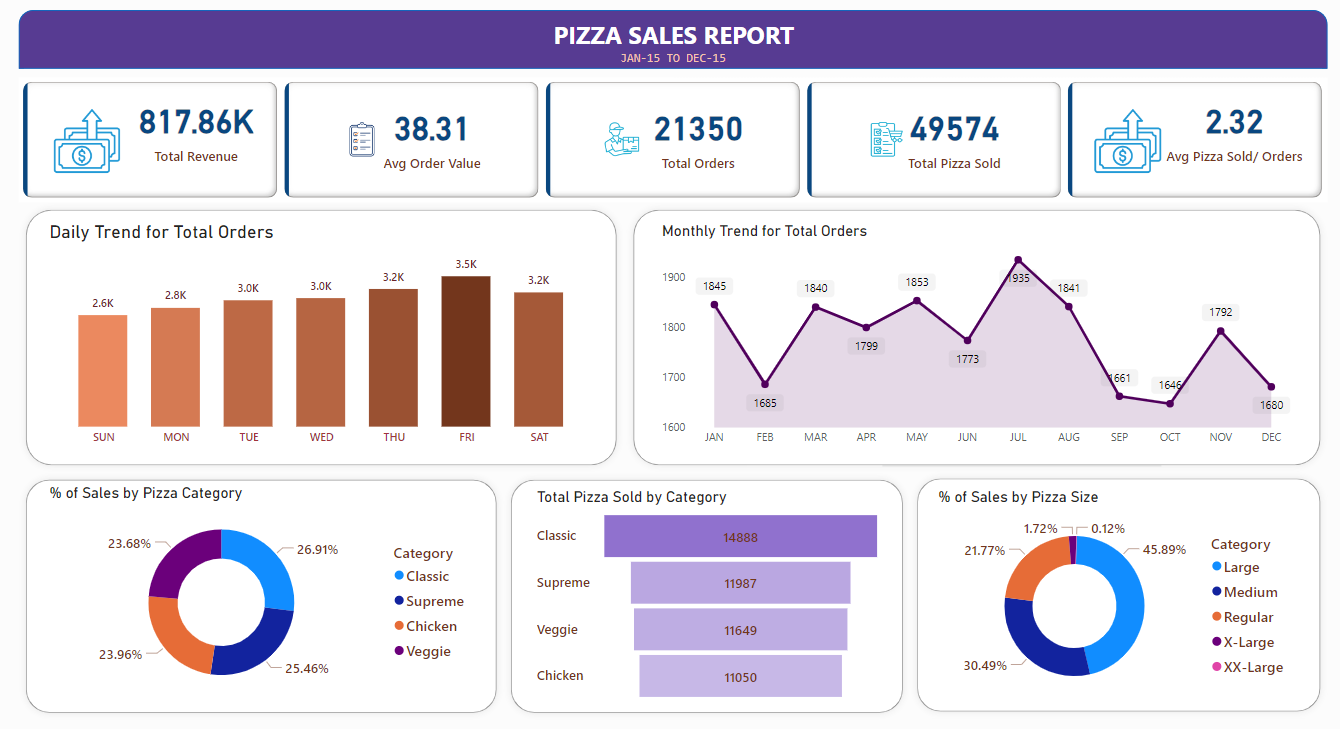

The page's visual inventory and layout, read from the dashboard file:
{"tool":"powerbi","page":{"name":"Page 1","canvas":[1500,820],"ordinal":0},"visuals":[{"type":"cardVisual","fields":{"Data":["Pizza sales.Total Revenue","Pizza sales.Avg Order Value","Pizza sales.Total Orders","Pizza sales.Total Pizza Sold","Pizza sales.Avg Pizza Sold Per Orders"]},"box":[20.9,91.9,1458.1,139.3],"z":0},{"type":"shape","box":[20.9,16.7,1458.1,65.5],"z":1000},{"type":"textbox","box":[593.3,20.9,314.7,58.5],"z":2000},{"type":"textbox","box":[667.1,55.7,165.7,36.2],"z":3000},{"type":"shape","box":[20.9,231.2,674.1,300.8],"z":4000},{"type":"columnChart","title":"Daily Trend for Total Orders","fields":{"Category":["Pizza sales.Order Day"],"Y":["Pizza sales.Total Orders"]},"box":[50.1,252.1,617,259],"z":5000},{"type":"areaChart","box":[832.8,266,611.4,259],"z":5001},{"type":"shape","box":[697.7,231.2,781.3,300.8],"z":5002},{"type":"areaChart","title":"Monthly Trend for Total Orders","fields":{"Category":["Pizza sales.Order Month"],"Y":["Pizza sales.Total Orders"]},"box":[732.5,252.1,711.7,259],"z":5003},{"type":"shape","box":[1013.9,530.6,465.2,275.7],"z":5004},{"type":"shape","box":[20.9,532,540.4,275.7],"z":5005},{"type":"shape","box":[561.2,532,452.6,275.7],"z":5006},{"type":"donutChart","title":"% of Sales by Pizza Category","fields":{"Category":["Pizza sales.pizza_category"],"Y":["Pizza sales.Total Revenue"]},"box":[50.1,544.5,483.3,243.7],"z":5007},{"type":"donutChart","title":"% of Sales by Pizza Size","fields":{"Y":["Pizza sales.Total Revenue"],"Category":["Pizza sales.pizza_size"]},"box":[1040.3,548.7,403.9,243.7],"z":5008},{"type":"funnel","title":"Total Pizza Sold by Category","fields":{"Y":["Pizza sales.Total Pizza Sold"],"Category":["Pizza sales.pizza_category"]},"box":[593.3,548.7,394.1,243.7],"z":5009}]}

Visuals, with their boxes in screenshot pixels (x1, y1, x2, y2), scaled from the page's 1500x820 canvas onto the 1340x729 screenshot:
cardVisual - Pizza sales.Total Revenue x Pizza sales.Avg Order Value: [left=19, top=82, right=1321, bottom=206]
shape: [left=19, top=15, right=1321, bottom=73]
textbox: [left=530, top=19, right=811, bottom=71]
textbox: [left=596, top=50, right=744, bottom=82]
shape: [left=19, top=206, right=621, bottom=473]
"Daily Trend for Total Orders" columnChart: [left=45, top=224, right=596, bottom=454]
areaChart: [left=744, top=236, right=1290, bottom=467]
shape: [left=623, top=206, right=1321, bottom=473]
"Monthly Trend for Total Orders" areaChart: [left=654, top=224, right=1290, bottom=454]
shape: [left=906, top=472, right=1321, bottom=717]
shape: [left=19, top=473, right=501, bottom=718]
shape: [left=501, top=473, right=906, bottom=718]
"% of Sales by Pizza Category" donutChart: [left=45, top=484, right=477, bottom=701]
"% of Sales by Pizza Size" donutChart: [left=929, top=488, right=1290, bottom=704]
"Total Pizza Sold by Category" funnel: [left=530, top=488, right=882, bottom=704]
